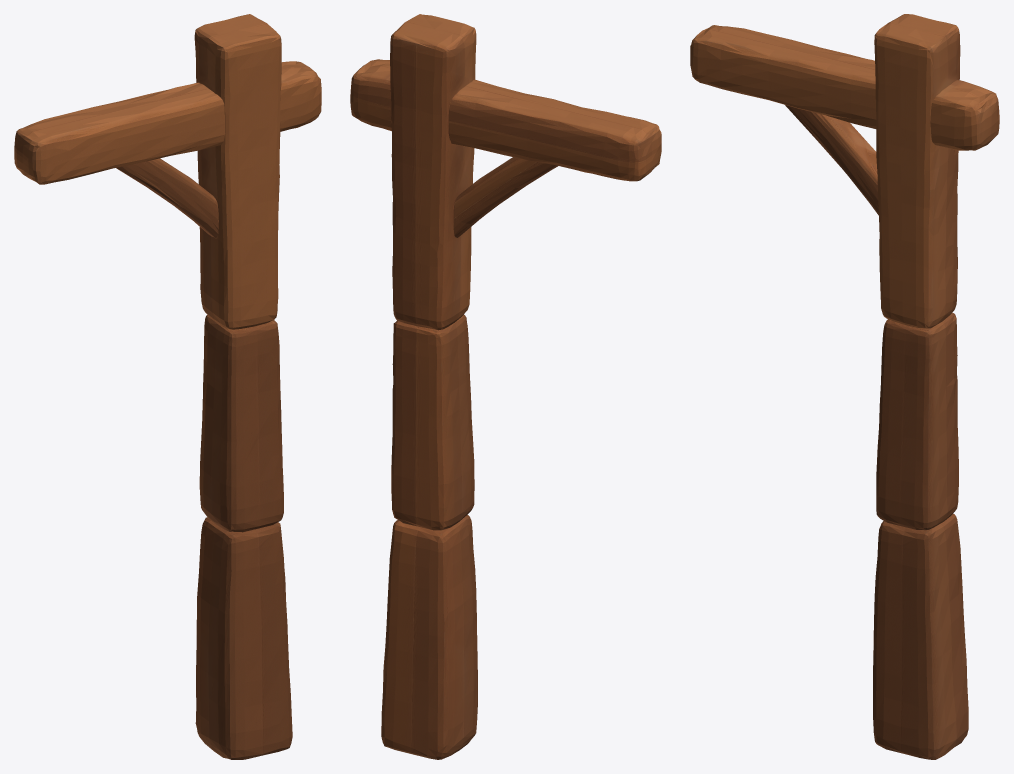
The model's file is pole.glb.
The picture shows the model from 3 angles, left to right: view 1: azimuth 30°, elevation 25°; view 2: azimuth 150°, elevation 25°; view 3: azimuth 330°, elevation 25°; orthographic projection.
Parts seen in each view (by area): view 1: mesh_node; view 2: mesh_node; view 3: mesh_node.
Boxes of the visible parts, left/top/right/bottom form: mesh_node: left=14, top=14, right=321, bottom=759; mesh_node: left=350, top=14, right=661, bottom=759; mesh_node: left=690, top=14, right=999, bottom=759.
Bounding box in the file's own units: 0.4287 × 1 × 0.0989.
Materials: 1 (1 with a texture image).
